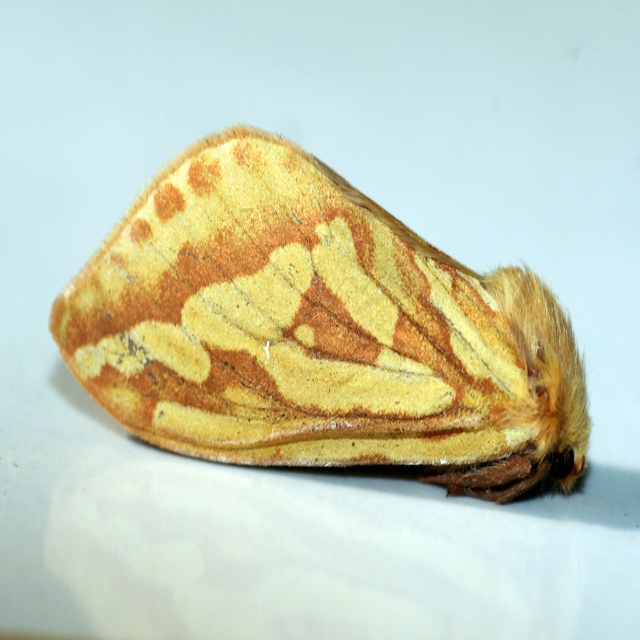Moths and butterflies: (47, 123, 595, 511)
